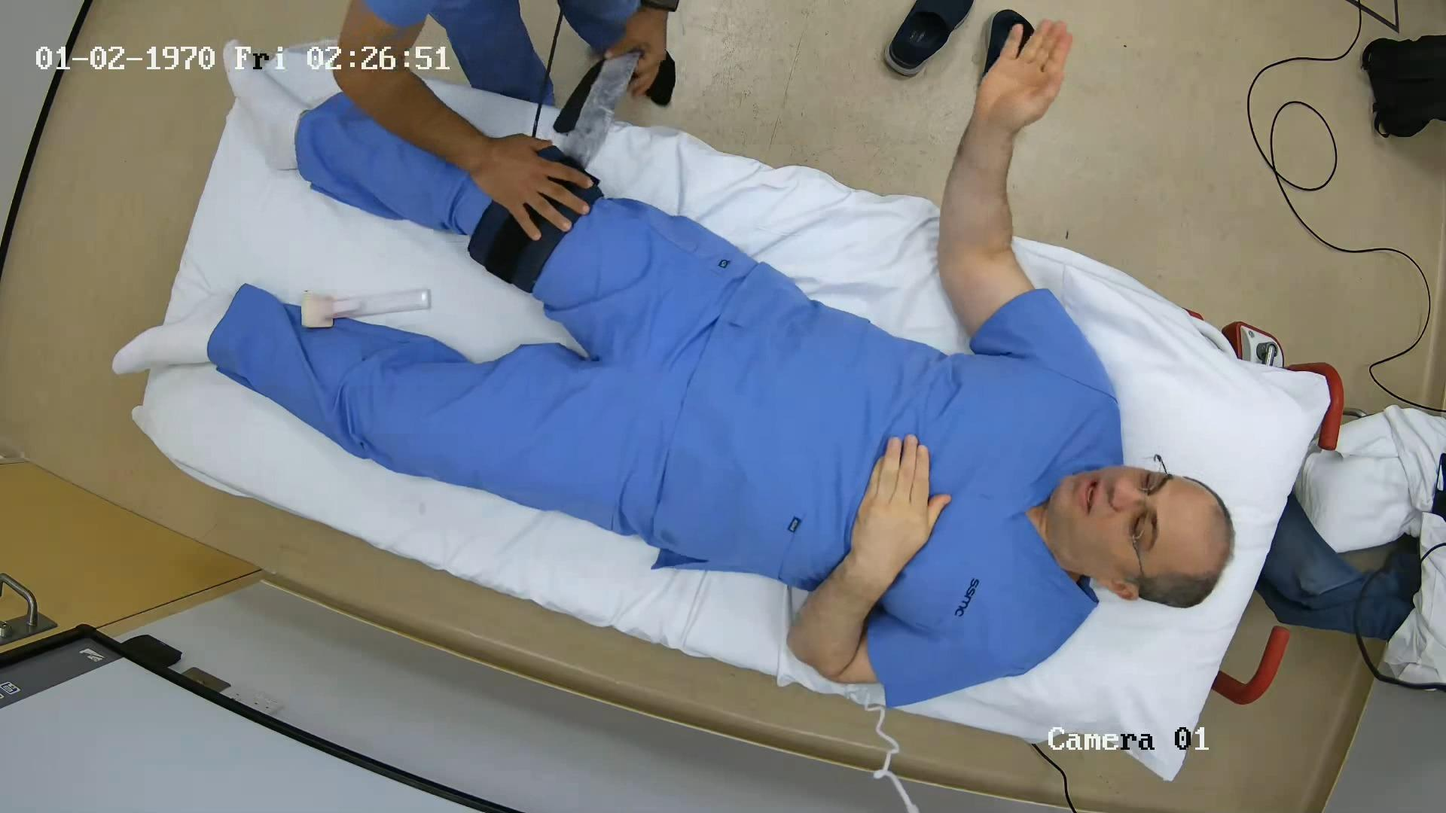bed: (114, 47, 1330, 780), (429, 81, 535, 132)
patient: (208, 20, 1233, 706)
prepstick: (300, 288, 431, 327)
tourniquet: (469, 202, 568, 292), (574, 179, 602, 204), (544, 148, 576, 165)
